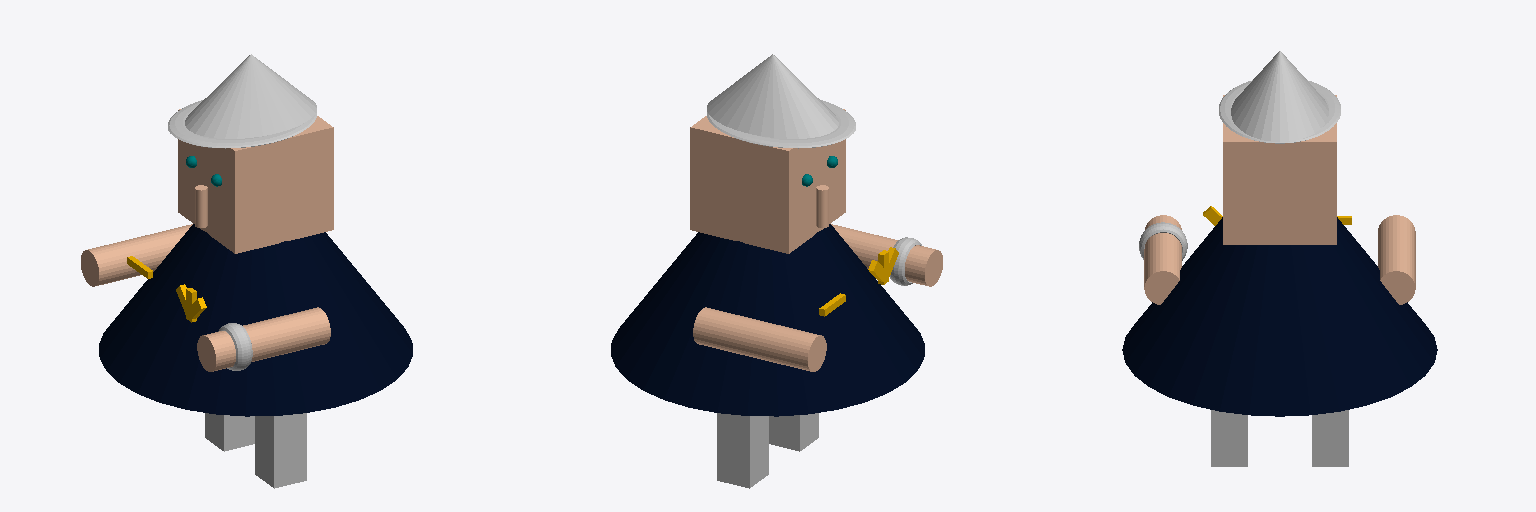
The picture shows the model from 3 angles: view 1: azimuth 30°, elevation 25°; view 2: azimuth 150°, elevation 25°; view 3: azimuth 270°, elevation 25°; orthographic projection.
Parts seen in each view (by area): view 1: Cone; view 2: Cone; view 3: Cone.
Part boxes in pixels (left/top/right/bottom): Cone: left=81, top=54, right=412, bottom=488; Cone: left=611, top=54, right=942, bottom=488; Cone: left=1122, top=51, right=1437, bottom=466.
Bounding box in the file's own units: 5 × 7.11 × 5.
17 materials, 4 textured.